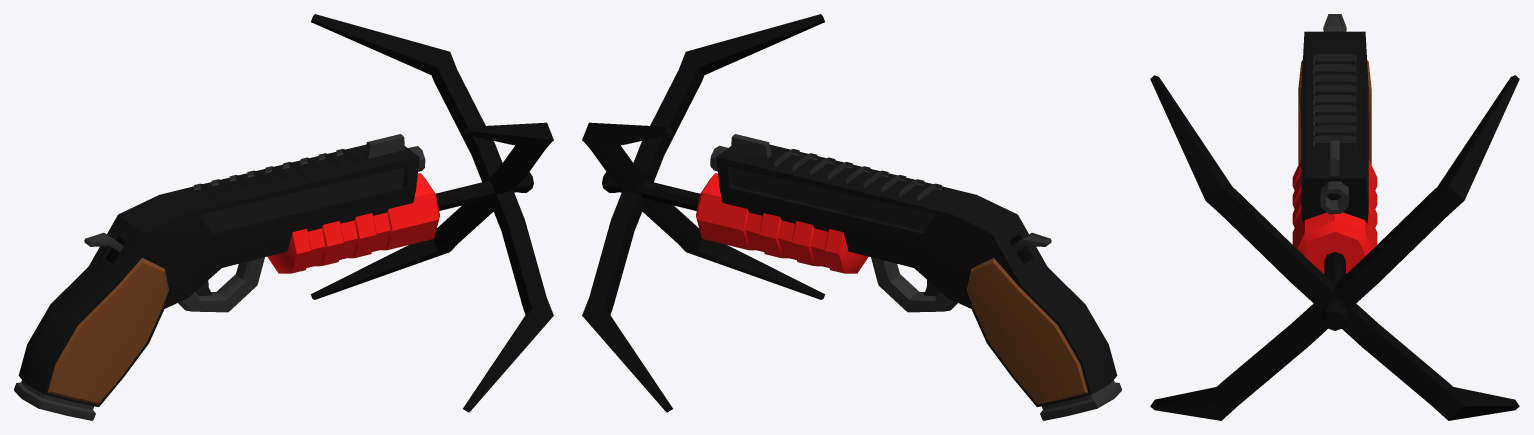
File: GrappleHook04.fbx
The picture shows the model from 3 angles, left to right: view 1: azimuth 30°, elevation 25°; view 2: azimuth 150°, elevation 25°; view 3: azimuth 270°, elevation 25°; orthographic projection. The views are drawn at different scales.
Parts seen in each view (by area): view 1: Gun, Grapple Hook; view 2: Gun, Grapple Hook; view 3: Grapple Hook, Gun.
Part boxes in pixels (<box>): Gun: <box>14,134,439,420</box>; Grapple Hook: <box>311,14,553,412</box>; Gun: <box>696,134,1121,420</box>; Grapple Hook: <box>582,14,824,412</box>; Grapple Hook: <box>1150,75,1519,420</box>; Gun: <box>1292,14,1377,273</box>.
Size of the model in its own units: 17.14 by 9.22 by 9.22.
